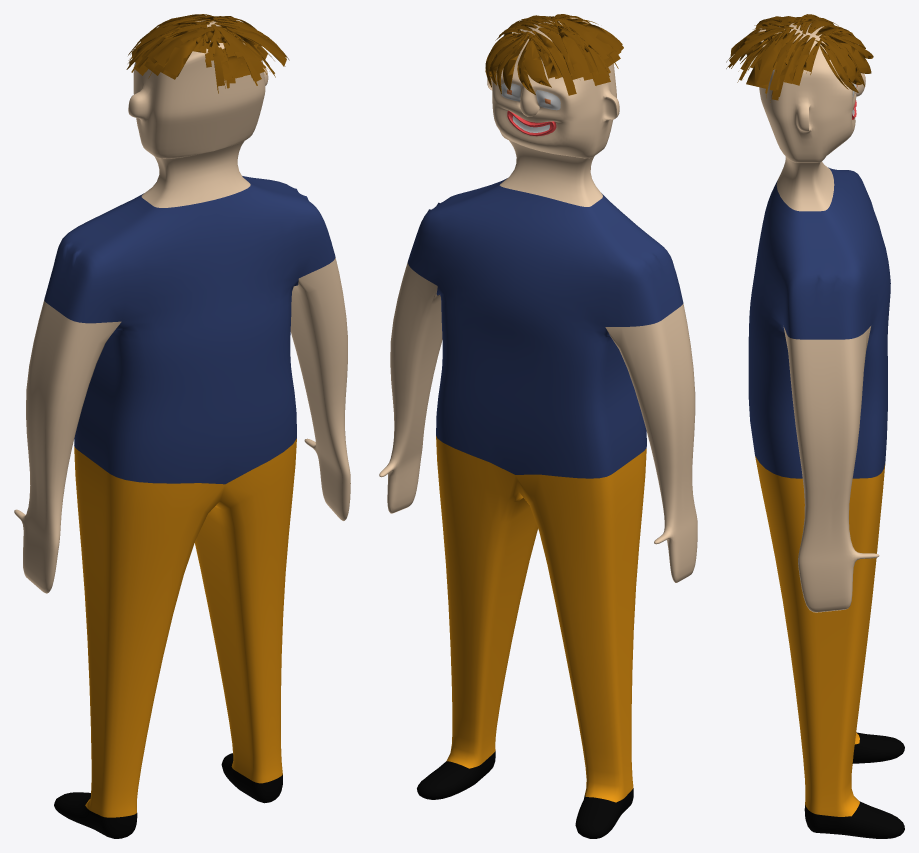
Rendered from Kind_3_neu.fbx.
3 views of the same model, side by side, from view 1: azimuth 30°, elevation 25°; view 2: azimuth 150°, elevation 25°; view 3: azimuth 270°, elevation 25° (orthographic). The views are drawn at different scales.
Visible parts, largest first — view 1: Cube, NurbsPath.001; view 2: Cube, NurbsPath.001; view 3: Cube, NurbsPath.001.
Part boxes in pixels (left/top/right/bottom): Cube: left=14, top=20, right=350, bottom=838; NurbsPath.001: left=126, top=14, right=289, bottom=93; Cube: left=379, top=17, right=697, bottom=838; NurbsPath.001: left=485, top=14, right=623, bottom=95; Cube: left=748, top=23, right=904, bottom=838; NurbsPath.001: left=726, top=14, right=873, bottom=102.
Bounding box in the file's own units: 36.51 × 91.54 × 19.16.
